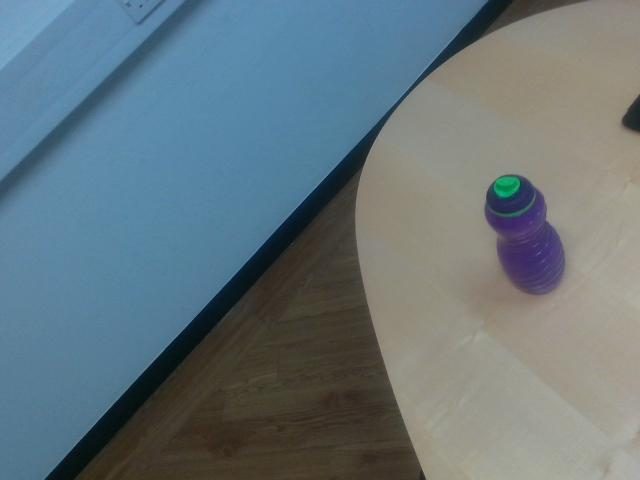bottle: (483, 177, 568, 296)
